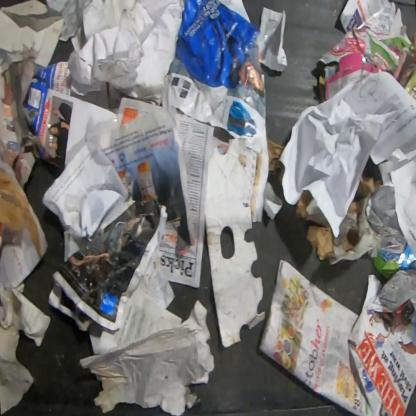cardboard: (79, 300, 216, 415), (204, 137, 266, 349), (316, 0, 416, 104), (0, 0, 65, 68)
soft_plastic: (373, 242, 416, 280)
